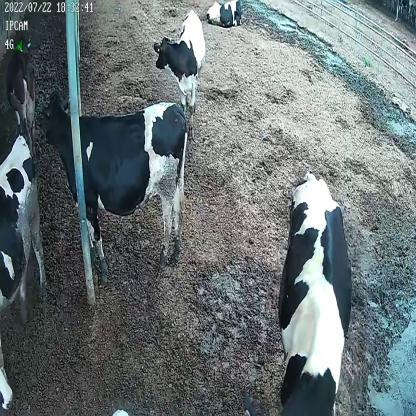cow: (41, 88, 190, 280), (278, 169, 354, 416), (153, 7, 207, 136), (7, 27, 37, 159), (205, 1, 245, 29)
